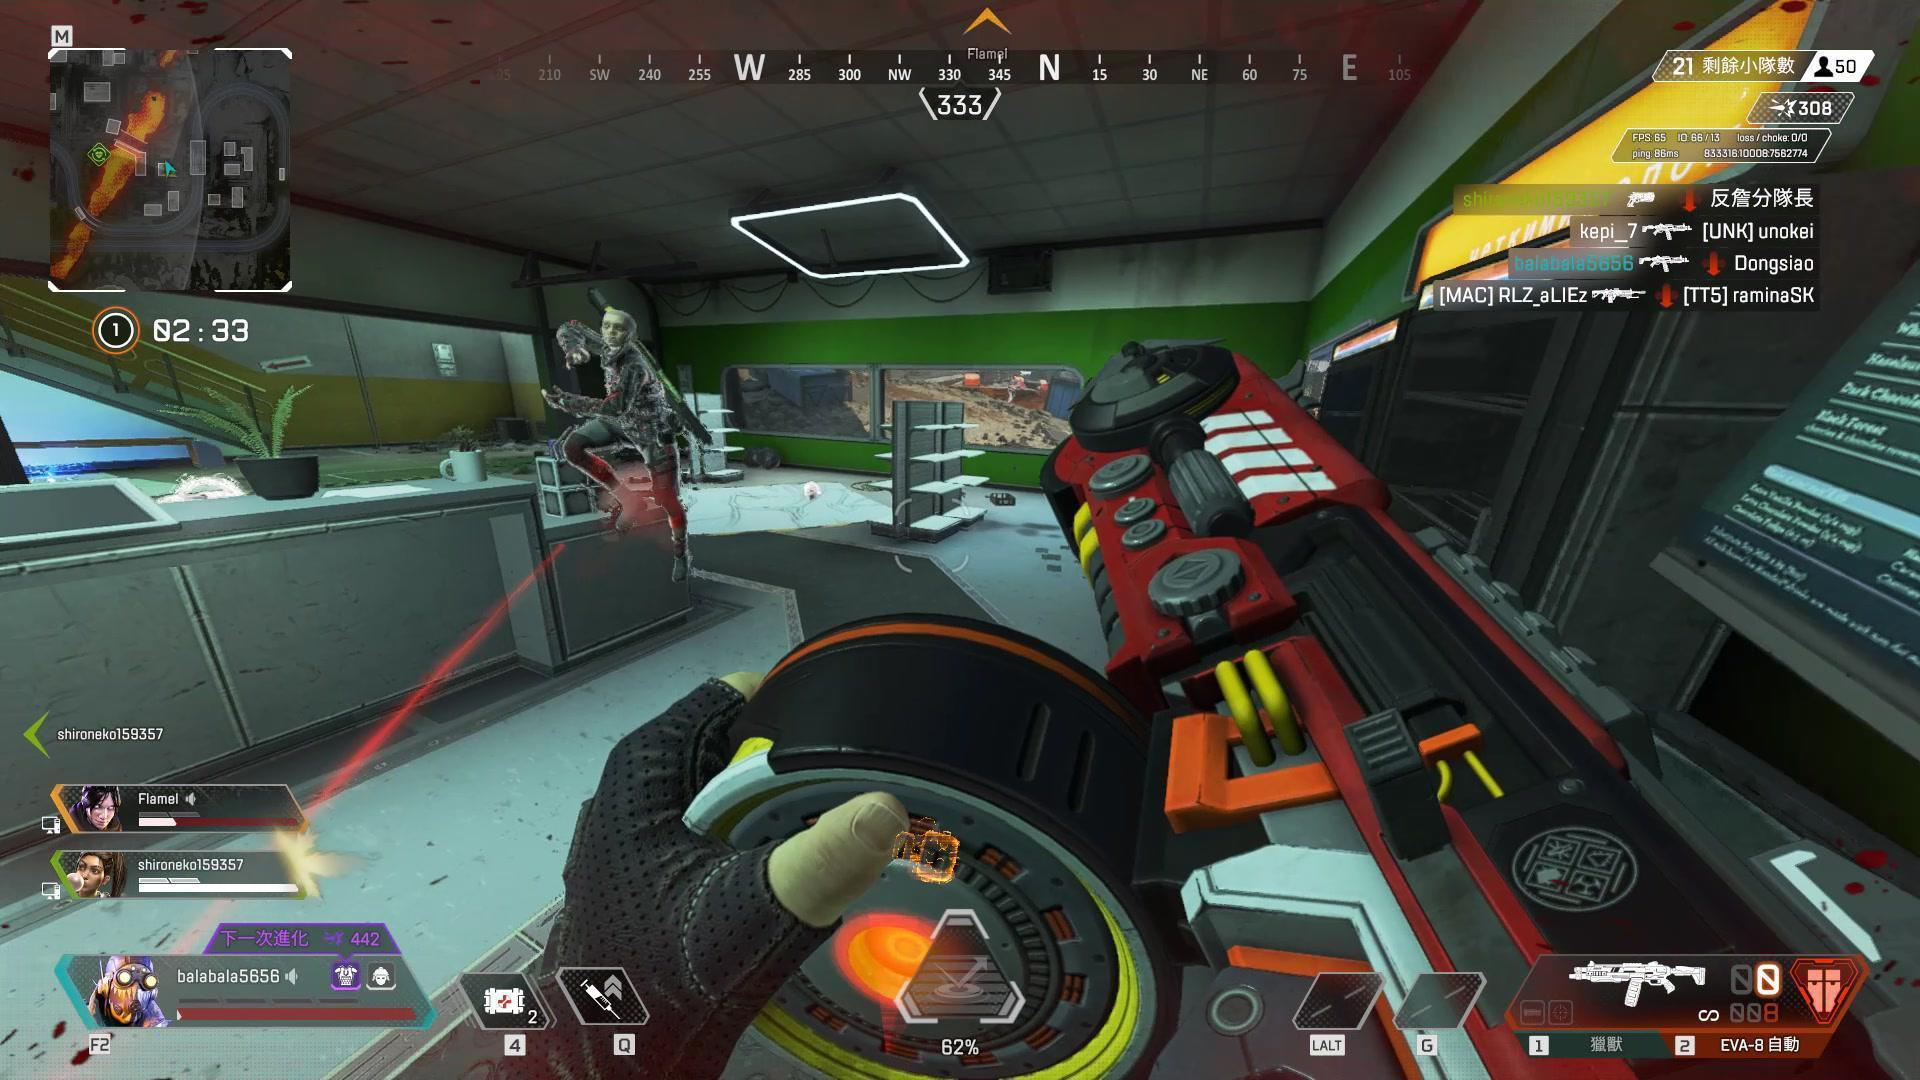avatar: (540, 304, 692, 588)
